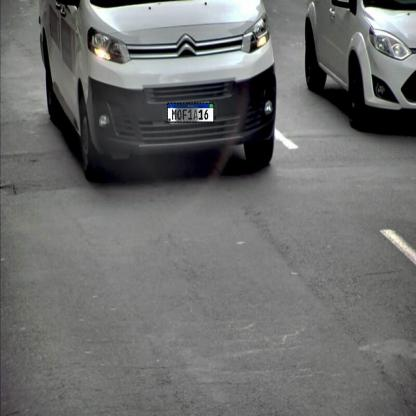PlacaM: (167, 102, 214, 122)
